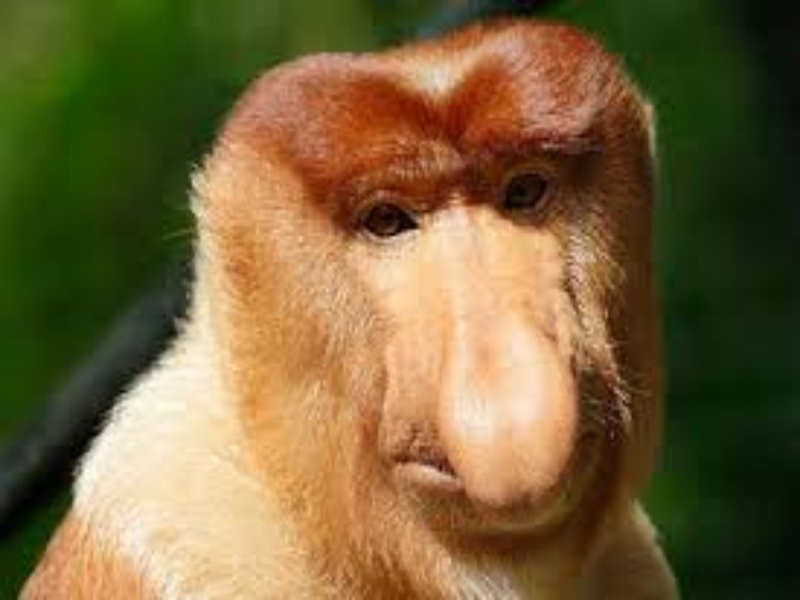monkey: (118, 30, 787, 556)
